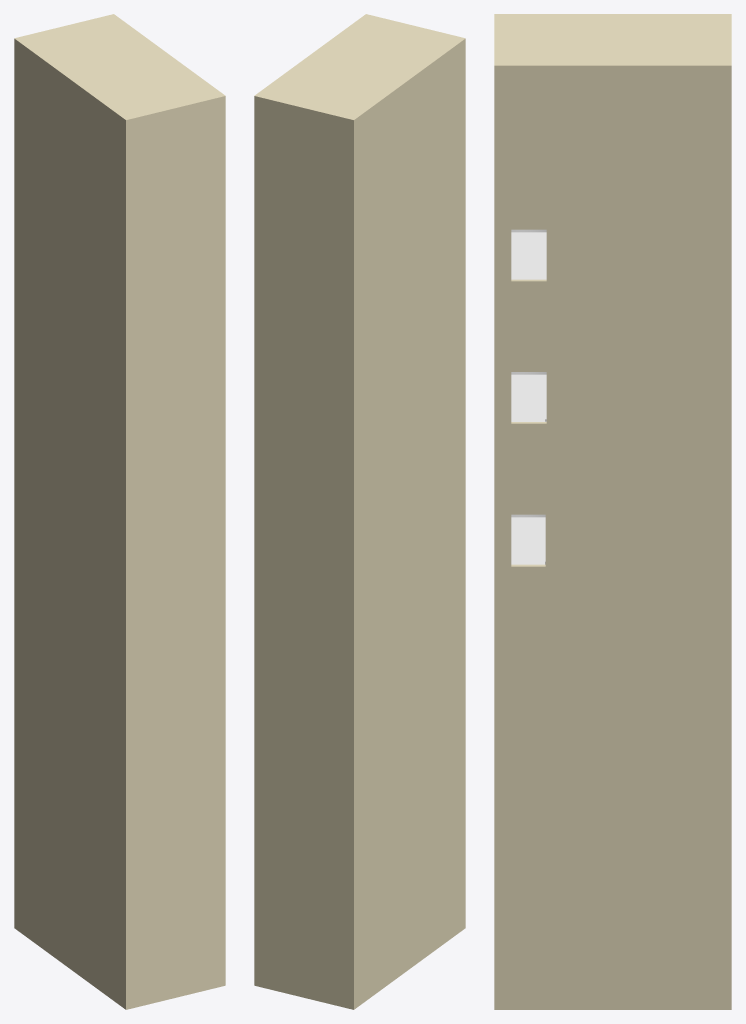
File: stairs_all.fbx
The picture shows the model from 3 angles, left to right: view 1: azimuth 30°, elevation 25°; view 2: azimuth 150°, elevation 25°; view 3: azimuth 270°, elevation 25°; orthographic projection. The views are drawn at different scales.
Visible parts, largest first — view 1: stairs_outsidewall; view 2: stairs_outsidewall; view 3: stairs_outsidewall, polySurface657, polySurface587, polySurface606.
Part boxes in pixels (left/top/right/bottom): stairs_outsidewall: left=14, top=14, right=225, bottom=1009; stairs_outsidewall: left=254, top=14, right=465, bottom=1009; stairs_outsidewall: left=494, top=14, right=731, bottom=1009; polySurface657: left=511, top=232, right=546, bottom=279; polySurface587: left=511, top=374, right=546, bottom=421; polySurface606: left=511, top=517, right=545, bottom=564.
Size of the model in its own units: 276 by 2355 by 537.
Materials: 7 (1 with a texture image).
